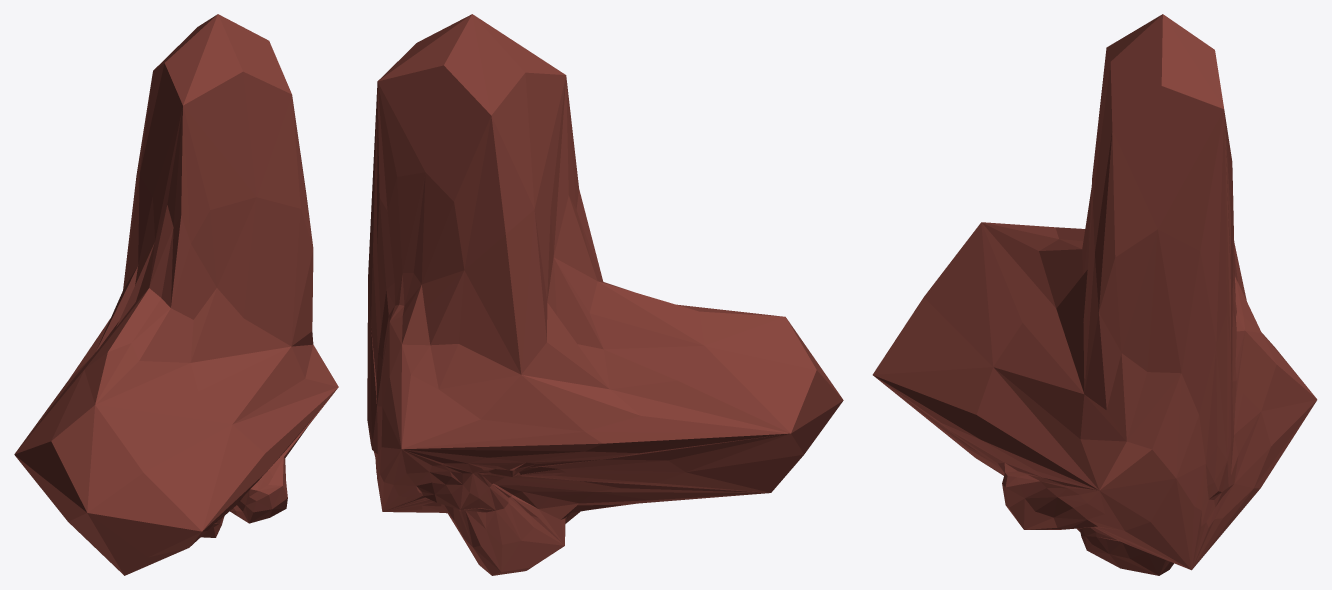
3 views of the same model, side by side, from view 1: azimuth 30°, elevation 25°; view 2: azimuth 150°, elevation 25°; view 3: azimuth 270°, elevation 25° (orthographic). The views are drawn at different scales.
Parts seen in each view (by area): view 1: 404_Cube.1639; view 2: 404_Cube.1639; view 3: 404_Cube.1639.
Part boxes in pixels (<box>): 404_Cube.1639: <box>14,14,338,575</box>; 404_Cube.1639: <box>367,14,843,575</box>; 404_Cube.1639: <box>872,14,1317,575</box>.
Bounding box in the file's own units: 11 × 15.64 × 11.04.
